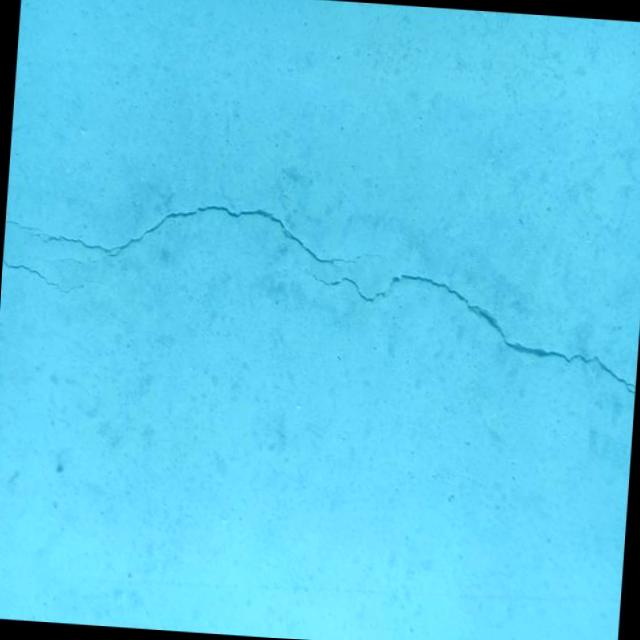crack: (295, 266, 640, 395), (25, 192, 398, 286), (3, 260, 108, 296), (6, 220, 43, 231)
